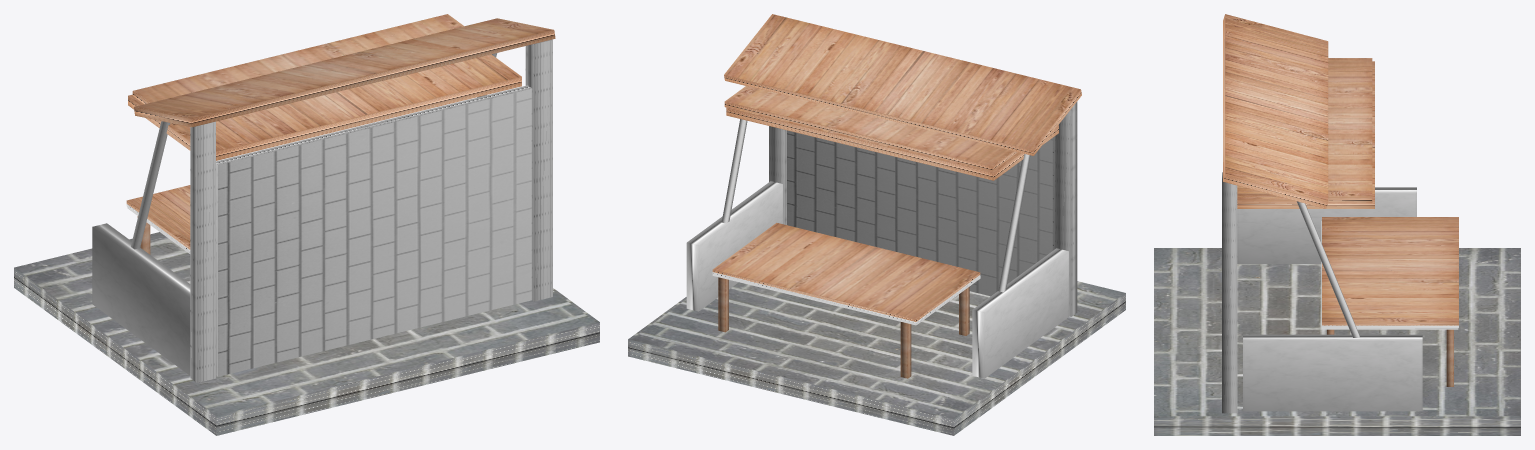
The model's file is booth.glb.
3 renders of one model, left to right at view 1: azimuth 30°, elevation 25°; view 2: azimuth 150°, elevation 25°; view 3: azimuth 270°, elevation 25°, orthographic. The views are drawn at different scales.
Visible parts, largest first — view 1: Cube.008, Cube.015, Cube.016, Cube.011, Cube.013, Cube.009, Cube.010, Cube.012, Cube.001, Cube.018; view 2: Cube.015, Cube.008, Cube.016, Cube.001, Cube.013, Cube.012, Cube.014, Cube.009, Cube.011, Cube.010, Cube.018, Cube.017 (+5 smaller); view 3: Cube.015, Cube.016, Cube.001, Cube.014, Cube.012, Cube.013, Cube.010, Cube.011, Cube.017, Cube, Cube.004.
Part boxes in pixels (x1,y1,x2,y2): Cube.008: [216, 85, 532, 376]; Cube.015: [14, 232, 599, 435]; Cube.016: [134, 18, 555, 127]; Cube.011: [128, 54, 521, 160]; Cube.013: [92, 223, 190, 375]; Cube.009: [190, 121, 215, 382]; Cube.010: [525, 39, 552, 301]; Cube.012: [132, 14, 463, 125]; Cube.001: [126, 185, 190, 249]; Cube.018: [131, 121, 170, 249]; Cube.015: [628, 281, 1125, 435]; Cube.008: [787, 130, 1055, 296]; Cube.016: [724, 14, 1081, 155]; Cube.001: [712, 223, 980, 321]; Cube.013: [972, 248, 1068, 378]; Cube.012: [724, 85, 1017, 170]; Cube.014: [686, 181, 782, 311]; Cube.009: [1055, 101, 1077, 316]; Cube.011: [726, 106, 1058, 180]; Cube.010: [769, 126, 786, 224]; Cube.018: [998, 154, 1030, 292]; Cube.017: [721, 119, 747, 223]; Cube.015: [1154, 248, 1520, 435]; Cube.016: [1223, 14, 1328, 208]; Cube.001: [1322, 217, 1458, 325]; Cube.014: [1243, 334, 1422, 411]; Cube.012: [1328, 58, 1372, 203]; Cube.013: [1237, 187, 1416, 263]; Cube.010: [1222, 172, 1237, 413]; Cube.011: [1237, 61, 1374, 208]; Cube.017: [1297, 201, 1359, 337]; Cube: [1321, 221, 1458, 329]; Cube.004: [1446, 329, 1453, 386].
Bounding box in the file's own units: 3.01 × 2.14 × 2.75.
Materials: 18 (16 with a texture image).
